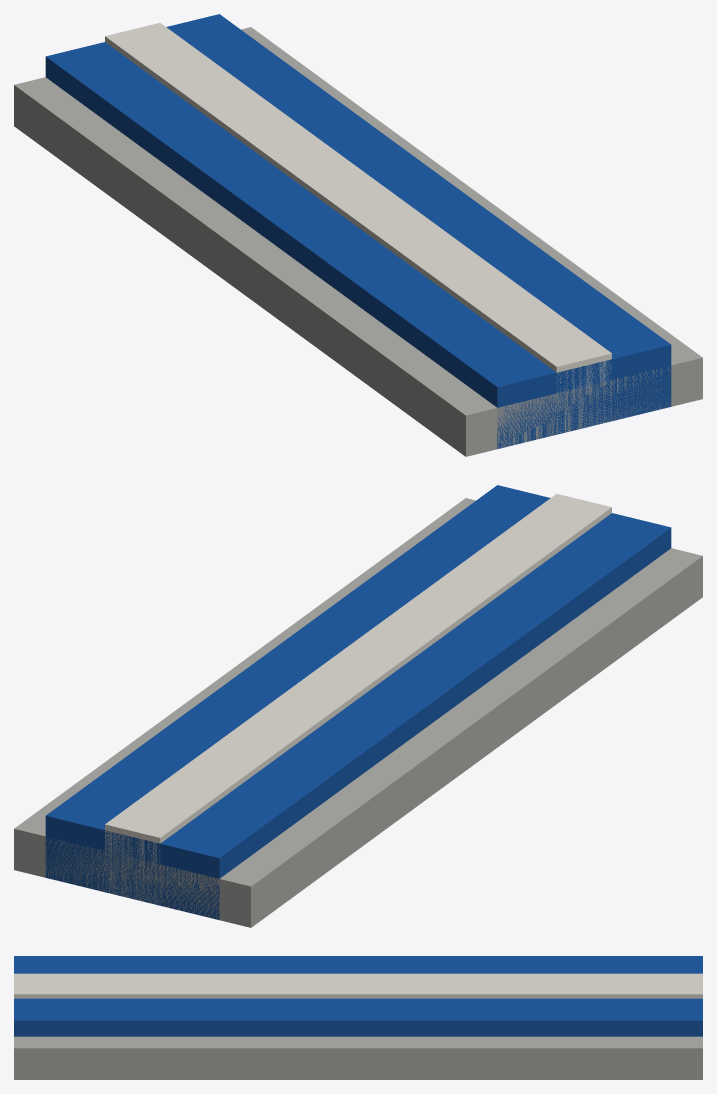
The model's file is civilian_stripe.glb.
The picture shows the model from 3 angles, top to bottom: view 1: azimuth 30°, elevation 25°; view 2: azimuth 150°, elevation 25°; view 3: azimuth 270°, elevation 25°; orthographic projection. The views are drawn at different scales.
Bounding box in the file's own units: 0.3 × 0.082 × 0.99.
